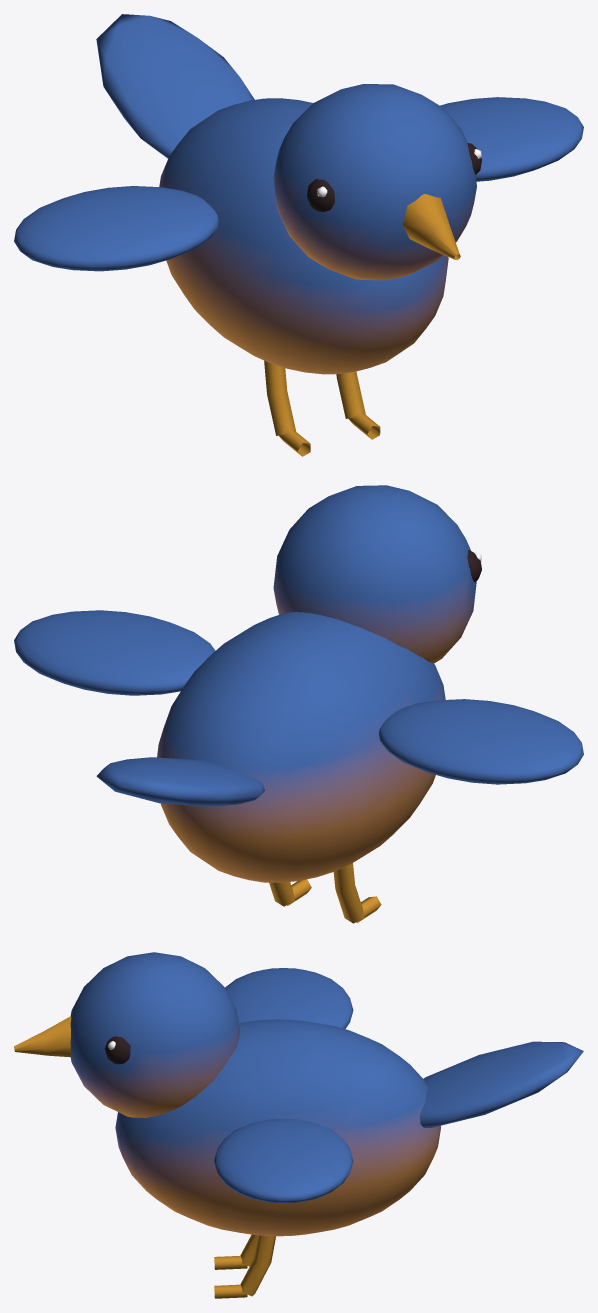
The model's file is critter_bluebird.glb.
3 renders of one model, top to bottom at view 1: azimuth 30°, elevation 25°; view 2: azimuth 150°, elevation 25°; view 3: azimuth 270°, elevation 25°, orthographic. The views are drawn at different scales.
Visible parts, largest first — view 1: bluebird_body, bluebird_wing_l, bluebird_wing_r, bluebird_eye_l; view 2: bluebird_body, bluebird_wing_l, bluebird_wing_r; view 3: bluebird_body, bluebird_wing_r, bluebird_wing_l, bluebird_eye_r.
Boxes of the visible parts, x1,y1,x2,y2 form: bluebird_body: (96, 14, 476, 456); bluebird_wing_l: (14, 186, 218, 271); bluebird_wing_r: (440, 97, 583, 181); bluebird_eye_l: (306, 179, 334, 212); bluebird_body: (96, 485, 476, 923); bluebird_wing_l: (378, 699, 583, 784); bluebird_wing_r: (14, 610, 215, 695); bluebird_body: (14, 952, 583, 1298); bluebird_wing_r: (214, 1118, 353, 1203); bluebird_wing_l: (225, 968, 353, 1028); bluebird_eye_r: (104, 1036, 130, 1064).
Size of the model in its own units: 0.35 by 0.2303 by 0.3675.
